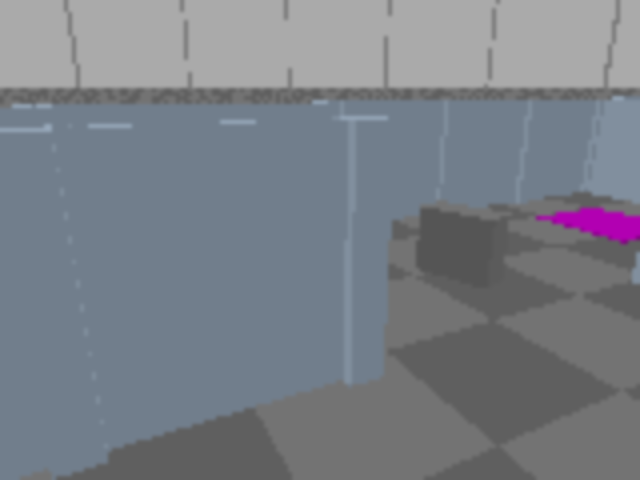goal_zone: (538, 208, 638, 243)
obstacle: (416, 201, 511, 290)
